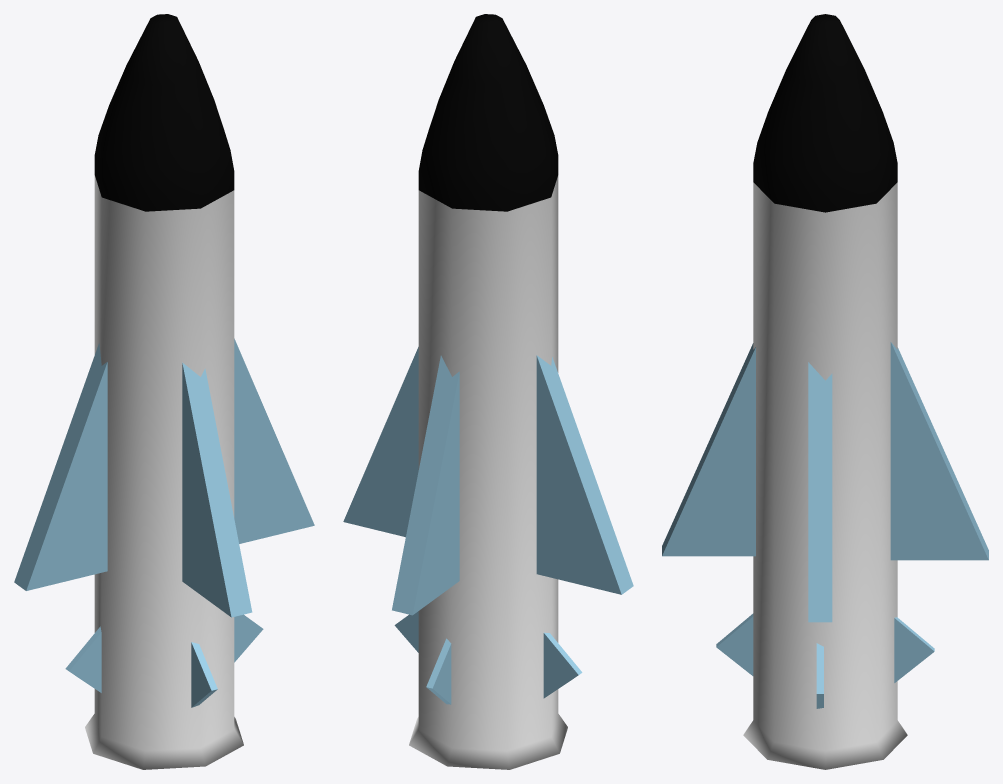
The model's file is missile.fbx.
3 renders of one model, left to right at view 1: azimuth 30°, elevation 25°; view 2: azimuth 150°, elevation 25°; view 3: azimuth 270°, elevation 25°, orthographic.
Parts seen in each view (by area): view 1: Cylinder.011, Cube.015, Cube.016, Cube.017, Cube.019, Cube.020, Cube.021; view 2: Cylinder.011, Cube.015, Cube.014, Cube.017, Cube.019, Cube.018, Cube.021; view 3: Cylinder.011, Cube.014, Cube.016, Cube.017, Cube.018, Cube.020.
Part boxes in pixels (x1,y1,x2,y2): Cylinder.011: (85,14,243,769); Cube.015: (14,343,107,590); Cube.016: (182,362,252,617); Cube.017: (234,338,314,543); Cube.019: (65,626,101,692); Cube.020: (191,642,217,707); Cube.021: (234,614,263,662); Cylinder.011: (409,14,567,769); Cube.015: (536,355,633,594); Cube.014: (392,355,459,615); Cube.017: (343,347,418,537); Cube.019: (543,632,582,698); Cube.018: (426,638,451,704); Cube.021: (394,611,418,652); Cylinder.011: (743,14,907,769); Cube.014: (890,342,988,560); Cube.016: (662,343,755,556); Cube.017: (808,362,832,622); Cube.018: (894,617,934,682); Cube.020: (716,613,753,675).
Bounding box in the file's own units: 174 × 419 × 174.
